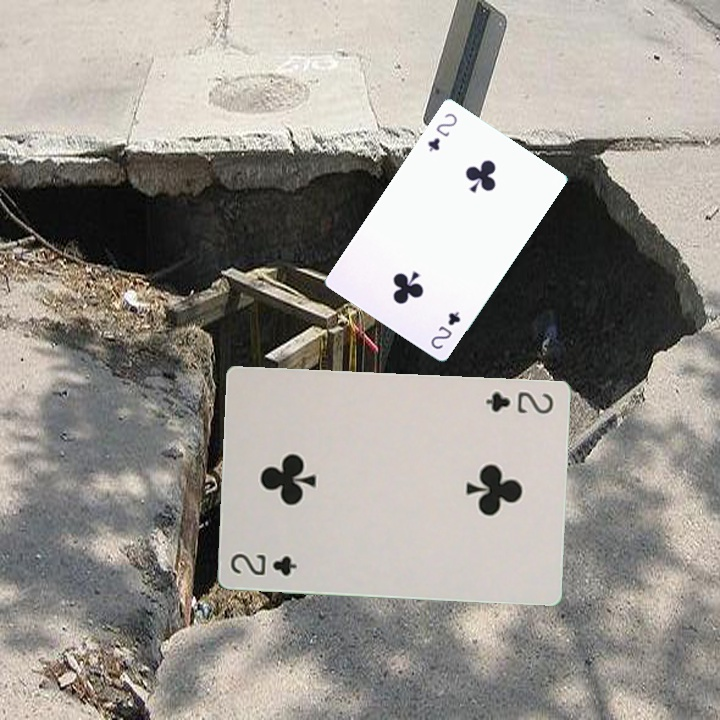2c: (227, 549, 300, 579), (481, 387, 556, 416), (426, 307, 463, 352), (424, 109, 460, 154)
